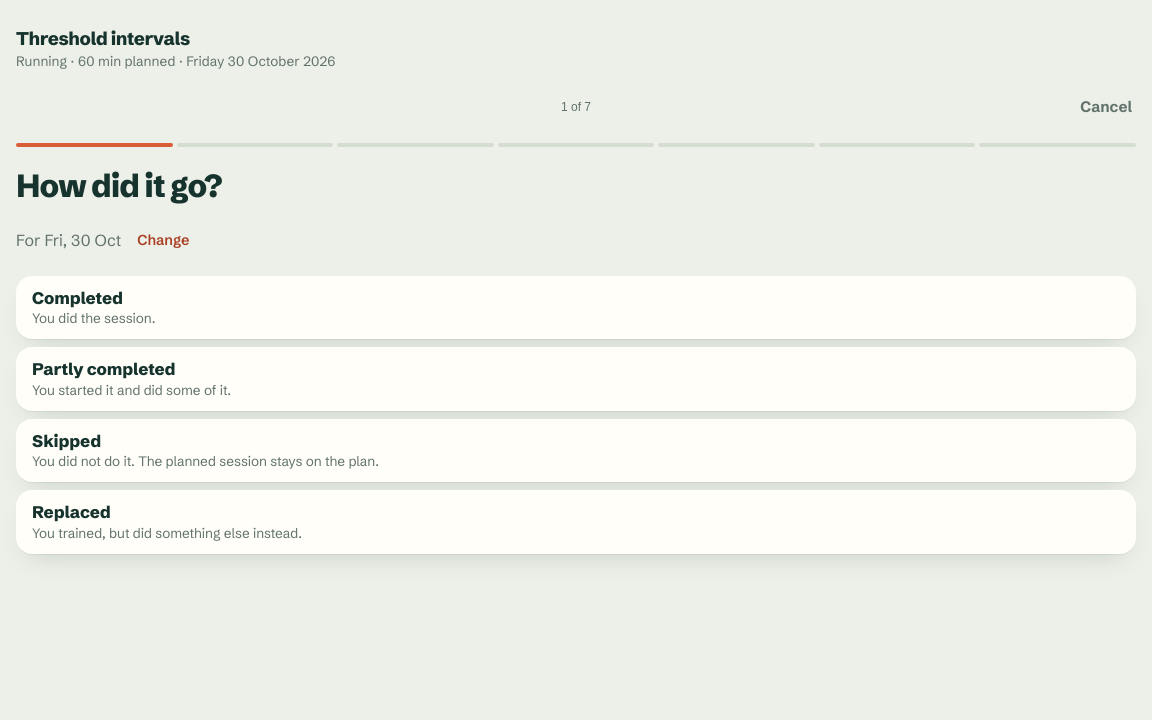
Log › stops asking for duration and effort once skipped is chosen
Click the button that starts with "Skipped".
click(67, 441)  # box [16, 419, 1136, 482]
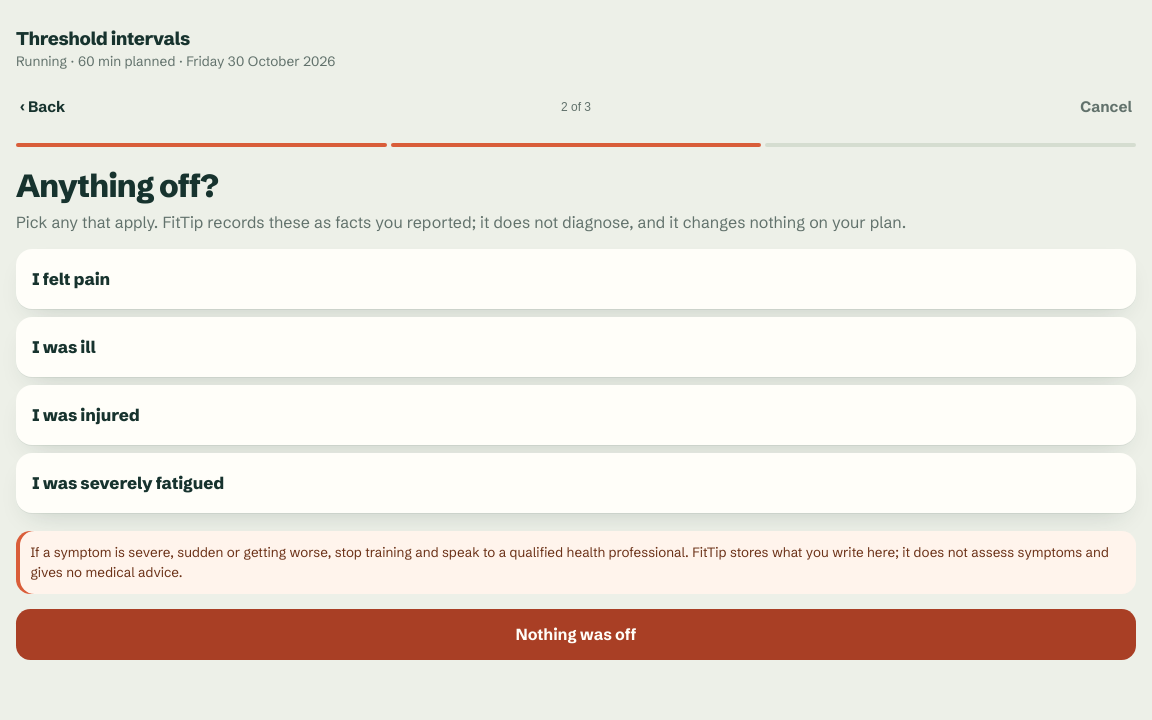
Expected: the button "I felt pain" is shown, [16, 249, 1136, 309]
Expected: the button "I was ill" is shown, [16, 317, 1136, 377]
Expected: the button "I was injured" is shown, [16, 385, 1136, 445]
